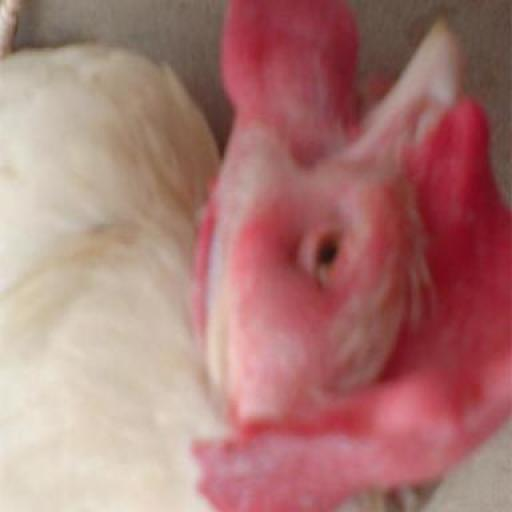disease: (216, 153, 439, 405)
